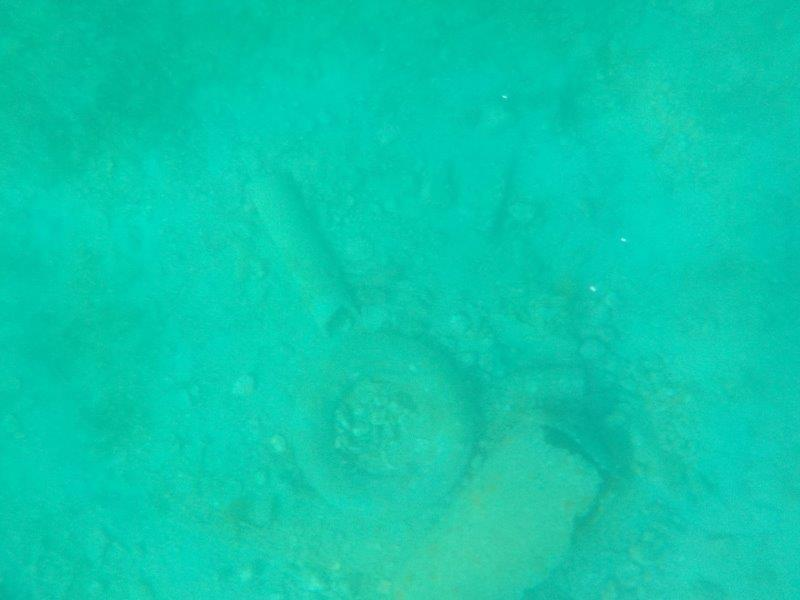bottle: (479, 354, 596, 412), (465, 142, 528, 238)
tire: (282, 320, 479, 524)
